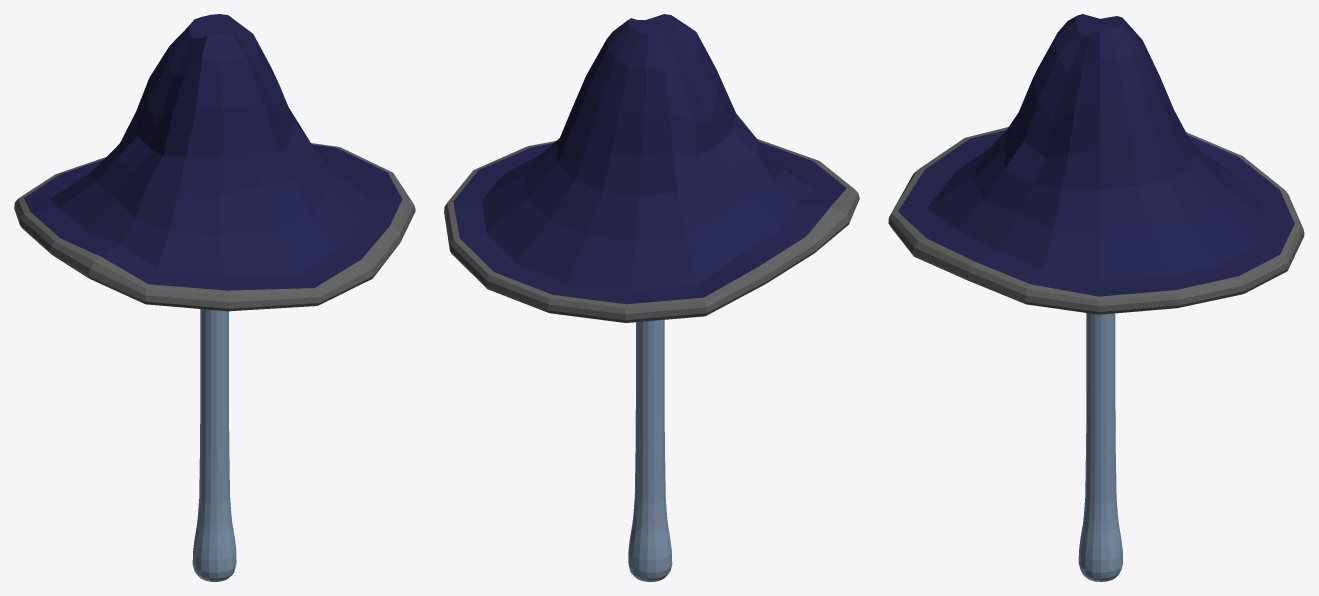
The model's file is mushroom 2.fbx.
3 renders of one model, left to right at view 1: azimuth 30°, elevation 25°; view 2: azimuth 150°, elevation 25°; view 3: azimuth 270°, elevation 25°, orthographic.
Parts seen in each view (by area): view 1: paddo_6_fin.001; view 2: paddo_6_fin.001; view 3: paddo_6_fin.001.
Part boxes in pixels (box(x1,y1,x2,y2)): paddo_6_fin.001: box(14, 14, 415, 581); paddo_6_fin.001: box(444, 14, 859, 581); paddo_6_fin.001: box(888, 14, 1304, 581).
Bounding box in the file's own units: 2229 × 3418 × 2317.
